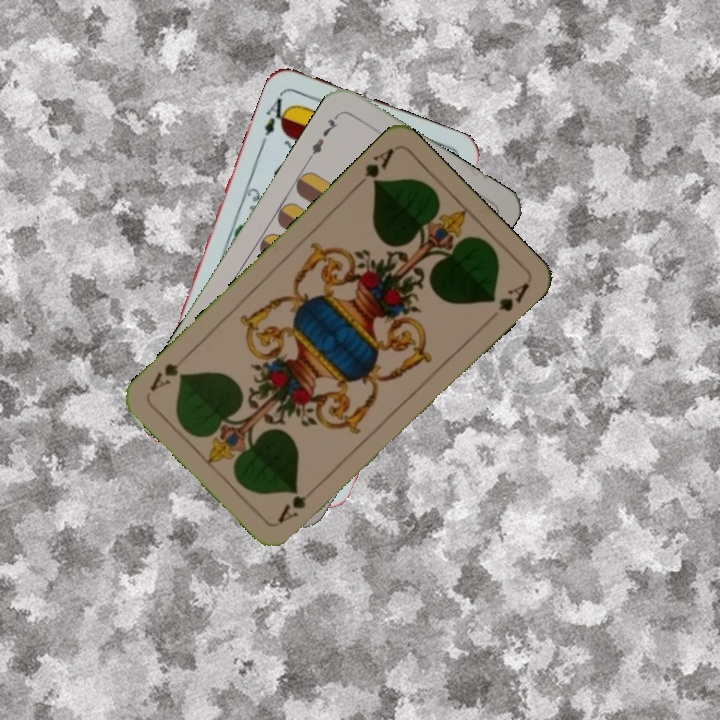E7: (304, 109, 342, 162)
EA: (260, 89, 293, 139)
GA: (351, 143, 397, 191), (273, 483, 321, 526)
